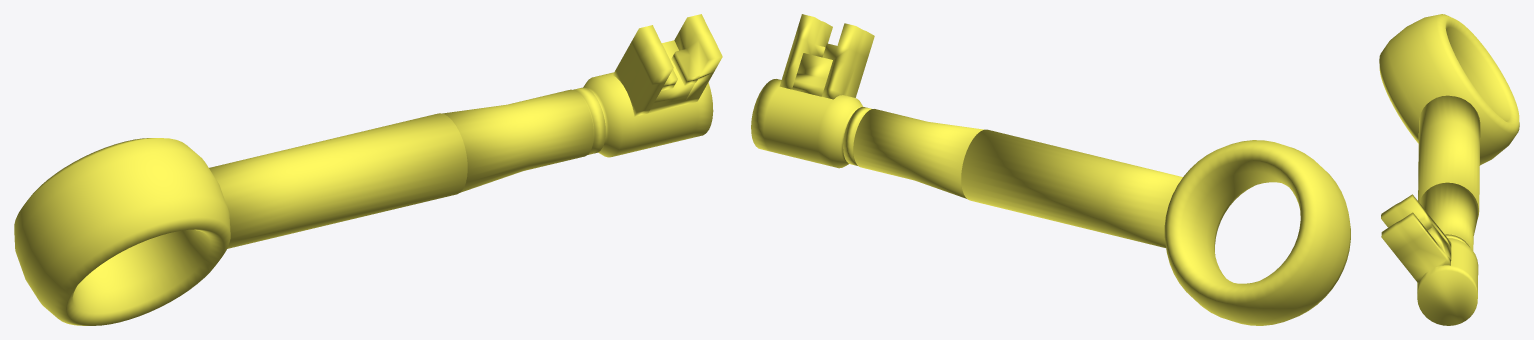
The model's file is Key[3].fbx.
3 views of the same model, side by side, from view 1: azimuth 30°, elevation 25°; view 2: azimuth 150°, elevation 25°; view 3: azimuth 270°, elevation 25° (orthographic). The views are drawn at different scales.
Parts seen in each view (by area): view 1: Torus; view 2: Torus; view 3: Torus.
Part boxes in pixels (x1,y1,x2,y2): Torus: [14, 14, 722, 325]; Torus: [751, 14, 1350, 325]; Torus: [1379, 14, 1519, 325].
Size of the model in its own units: 199 by 56.84 by 49.5.
